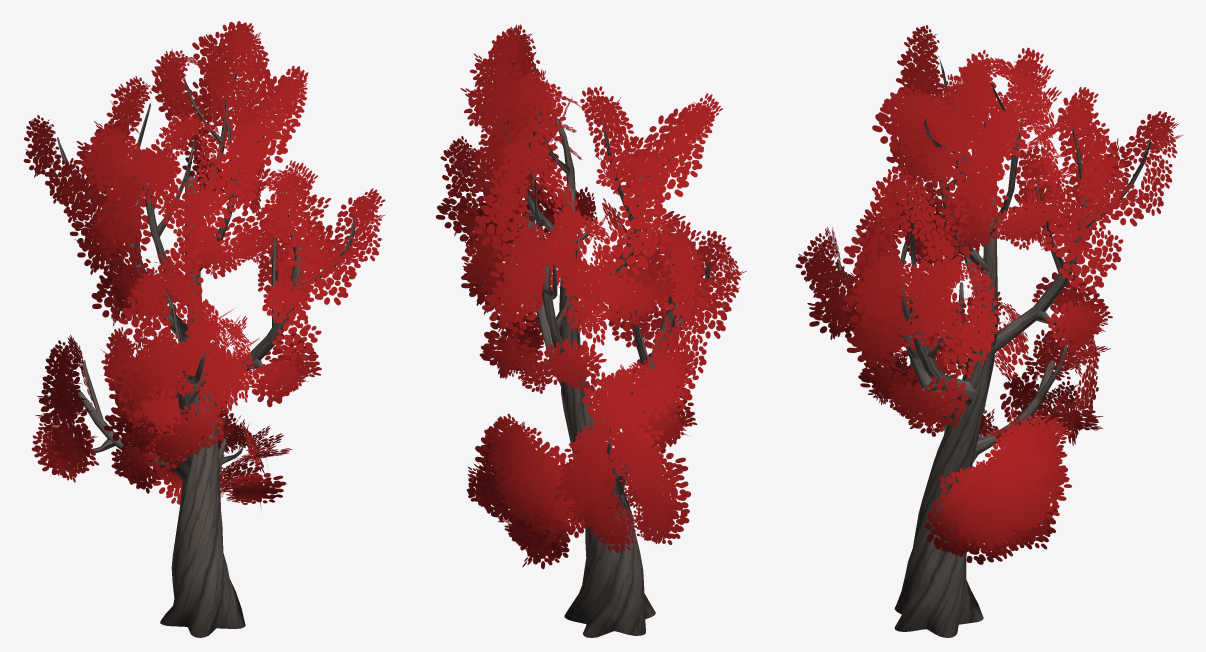
File: twisted-tree-2.glb
The picture shows the model from 3 angles, left to right: view 1: azimuth 30°, elevation 25°; view 2: azimuth 150°, elevation 25°; view 3: azimuth 270°, elevation 25°; orthographic projection. The views are drawn at different scales.
Parts seen in each view (by area): view 1: TwistedTree_4; view 2: TwistedTree_4; view 3: TwistedTree_4.
Boxes of the visible parts, x1,y1,x2,y2 form: TwistedTree_4: (23,21,385,637); TwistedTree_4: (436,24,746,637); TwistedTree_4: (795,25,1182,637).
Bounding box in the file's own units: 10.38 × 18.74 × 11.29.
2 materials, 2 textured.
